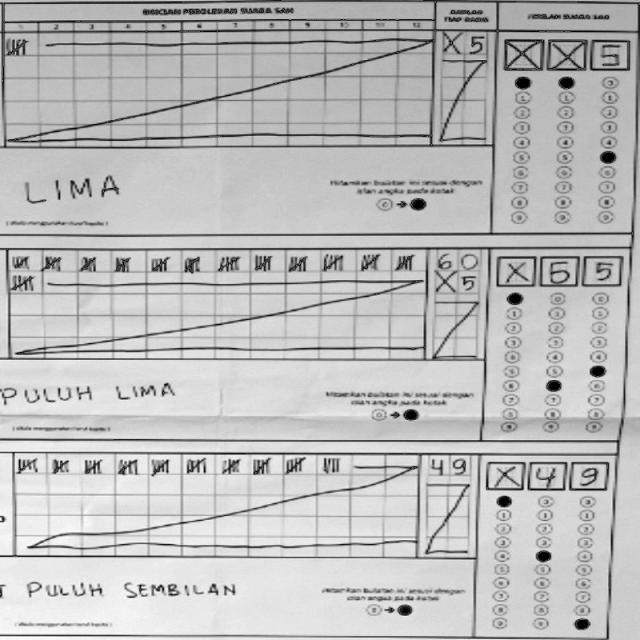Suara: (482, 453, 612, 492), (489, 251, 626, 286), (500, 34, 626, 71)
